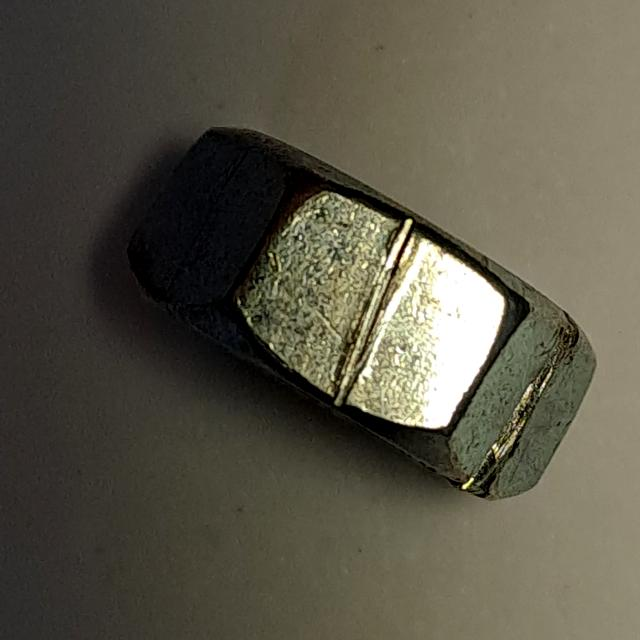Side_Scratches: (105, 111, 613, 514)
